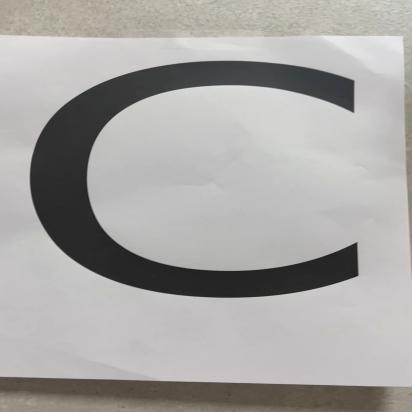seat: (10, 37, 412, 386)
